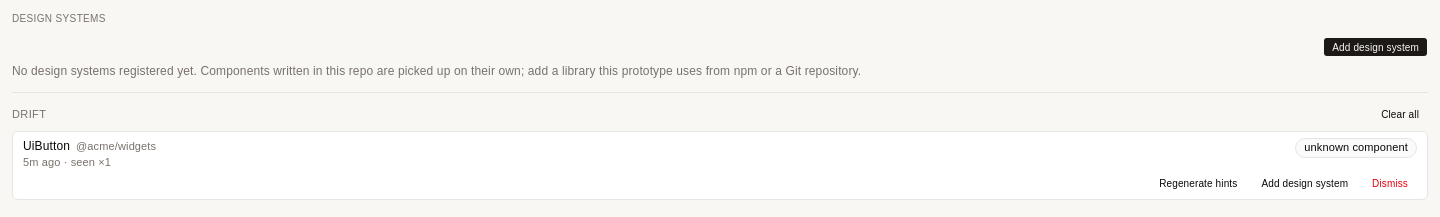
Test: DesignSystemsPanel add mode › deep-links a drift row straight to the npm form with the spec filled in
This screenshot has width=1440, height=217.
Step 1. Click the button with test id "drift-add-design-system" → (1305, 183), box 1252,173 -> 1357,193
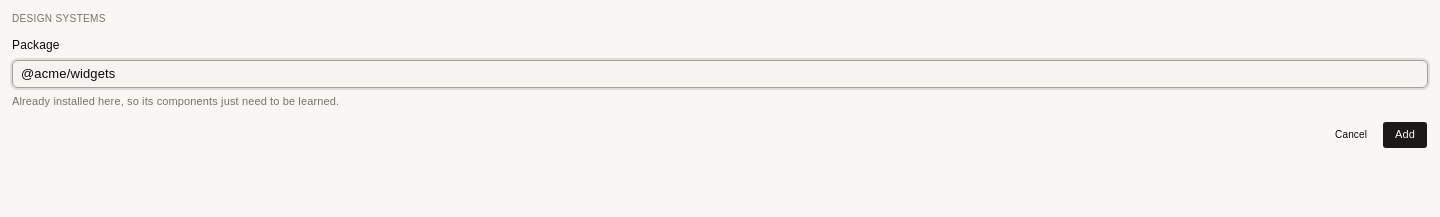
Now the field labelled "Package" holds "@acme/widgets", box 12,60 -> 1428,88
